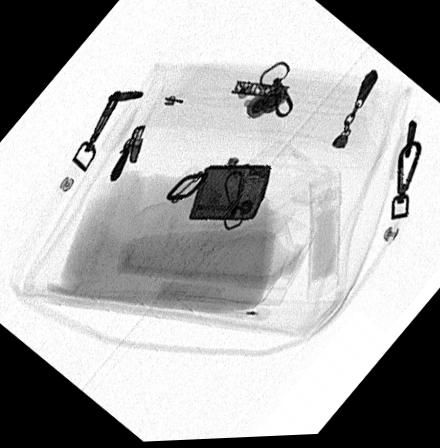Lighter: (187, 166, 271, 222)
